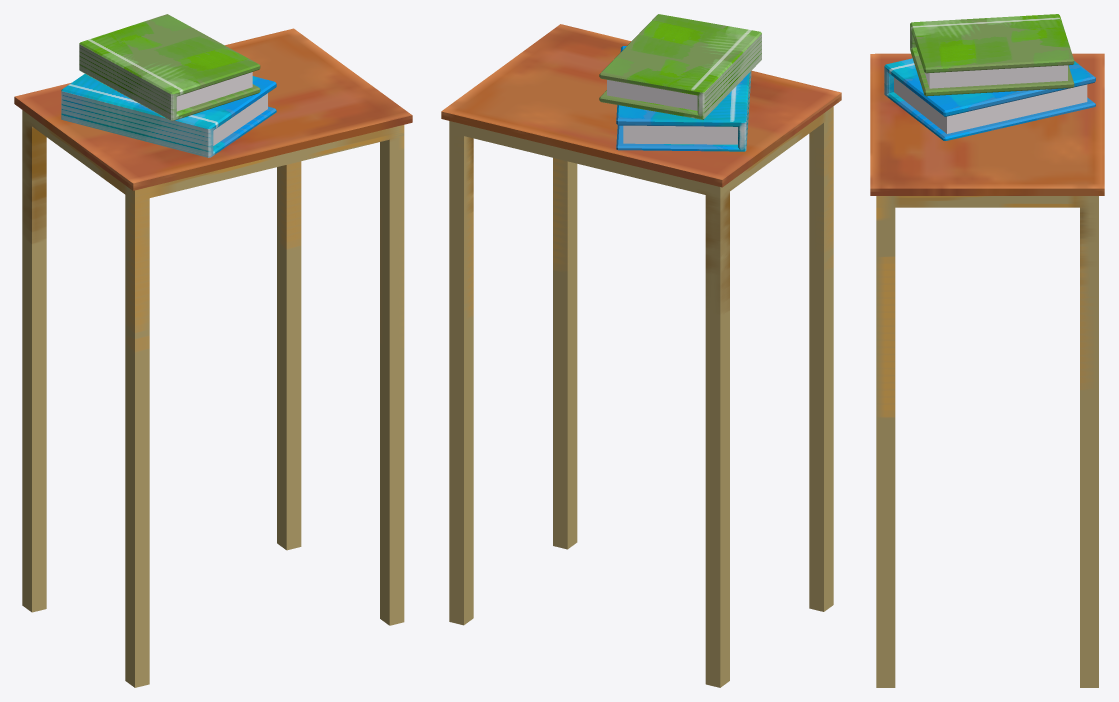
The model's file is table.gltf.
3 views of the same model, side by side, from view 1: azimuth 30°, elevation 25°; view 2: azimuth 150°, elevation 25°; view 3: azimuth 270°, elevation 25° (orthographic).
Visible parts, largest first — view 1: book.008; view 2: book.008; view 3: book.008.
Part boxes in pixels (x1=…): book.008: x1=14, y1=14, x2=412, y2=687; book.008: x1=441, y1=14, x2=841, y2=687; book.008: x1=870, y1=14, x2=1104, y2=687.
Bounding box in the file's own units: 4.63 × 9.01 × 3.41.
6 materials, 4 textured.
